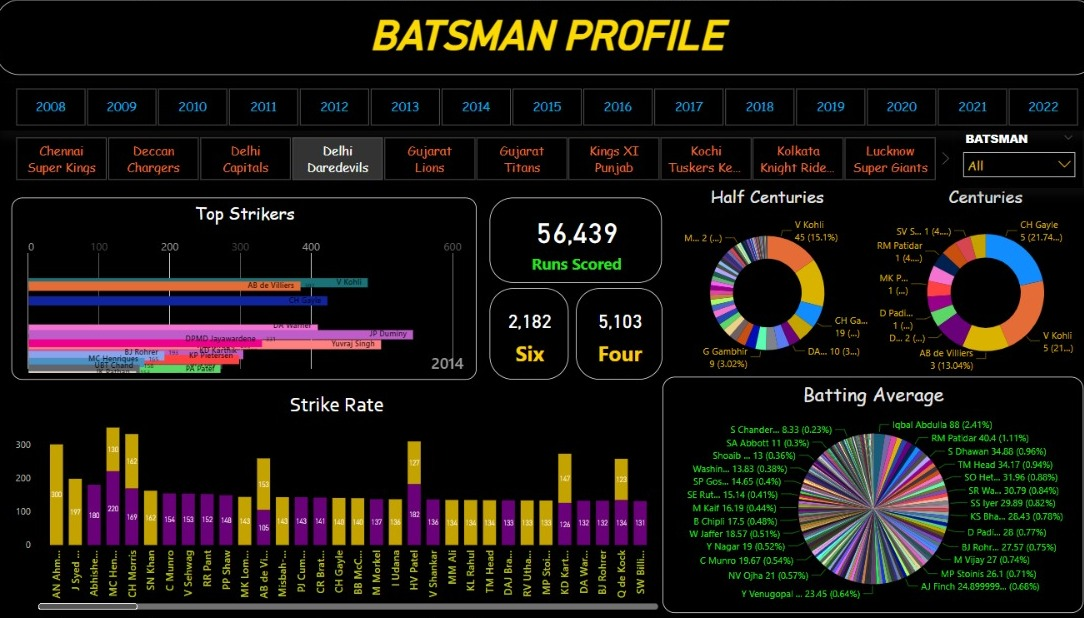

The dashboard page shown, as its layout file describes it:
{"tool":"powerbi","page":{"name":"Batsman","canvas":[1420,800],"ordinal":2},"visuals":[{"type":"textbox","box":[0,0,1416.4,96.5],"z":0},{"type":"slicer","fields":{"Values":["BATSMAN SEASONAL.Season"]},"box":[0,107.2,1416.4,61.6],"z":1000},{"type":"slicer","fields":{"Values":["BATSMAN SEASONAL.Batting Team"]},"box":[0,169.9,1232.9,68.5],"z":2000},{"type":"wishyoulizationbarchartrace","title":"Top Strikers","fields":{"value":["Sum(BATSMAN SEASONAL.Runs Scored)"],"year":["BATSMAN SEASONAL.Season"],"name":["BATSMAN SEASONAL.Batsman"]},"box":[20,254.3,598.6,234.3],"z":3000},{"type":"columnChart","title":"Strike Rate","fields":{"Category":["BATSMAN SEASONAL.Batsman"],"Y":["Avg(BATSMAN SEASONAL.Strike Rate)"],"Series":["BATSMAN SEASONAL.Batting Team"]},"box":[20,504.3,837.1,285.7],"z":4000},{"type":"donutChart","title":"Centuries","fields":{"Category":["BATSMAN SEASONAL.Batsman"],"Y":["Sum(BATSMAN SEASONAL.Centuries)"]},"box":[1127.1,238.6,292.9,247.1],"z":5000},{"type":"donutChart","title":"Half Centuries","fields":{"Category":["BATSMAN SEASONAL.Batsman"],"Y":["Sum(BATSMAN SEASONAL.Half Centuries)"]},"box":[857.1,238.6,270,248.6],"z":6000},{"type":"card","fields":{"Values":["Sum(BATSMAN SEASONAL.Four)"]},"box":[745.9,371.6,110.8,117.6],"z":7000},{"type":"card","fields":{"Values":["Sum(BATSMAN SEASONAL.Six)"]},"box":[635.1,371.6,101.4,117.6],"z":8000},{"type":"slicer","fields":{"Values":["BATSMAN SEASONAL.Batsman"]},"box":[1234.3,162.9,164.3,78.6],"z":9000},{"type":"pieChart","title":"Batting Average","fields":{"Category":["BATSMAN SEASONAL.Batsman"],"Y":["Avg(BATSMAN SEASONAL.Batting Average)"]},"box":[857.1,485.7,541.4,304.3],"z":10000},{"type":"card","fields":{"Values":["Sum(BATSMAN SEASONAL.Runs Scored)"]},"box":[635.1,254.1,221.6,109.5],"z":11000}]}

Visuals, with their boxes in screenshot pixels (x1, y1, x2, y2), scaled from the page's 1420x800 canvas onto the 1084x618 screenshot:
textbox: left=0, top=0, right=1081, bottom=75
slicer - BATSMAN SEASONAL.Season: left=0, top=83, right=1081, bottom=130
slicer - BATSMAN SEASONAL.Batting Team: left=0, top=131, right=941, bottom=184
"Top Strikers" wishyoulizationbarchartrace: left=15, top=196, right=472, bottom=377
"Strike Rate" columnChart: left=15, top=390, right=654, bottom=610
"Centuries" donutChart: left=860, top=184, right=1083, bottom=375
"Half Centuries" donutChart: left=654, top=184, right=860, bottom=376
card - Sum(BATSMAN SEASONAL.Four): left=569, top=287, right=654, bottom=378
card - Sum(BATSMAN SEASONAL.Six): left=485, top=287, right=562, bottom=378
slicer - BATSMAN SEASONAL.Batsman: left=942, top=126, right=1068, bottom=187
"Batting Average" pieChart: left=654, top=375, right=1068, bottom=610
card - Sum(BATSMAN SEASONAL.Runs Scored): left=485, top=196, right=654, bottom=281
